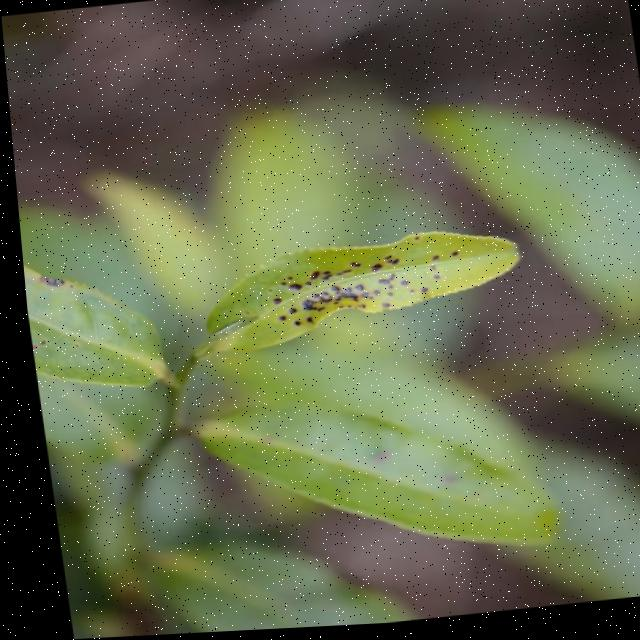Tea red scab: (272, 253, 452, 336)
